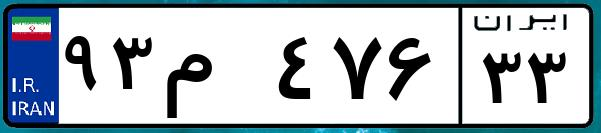3: (475, 38, 525, 113), (525, 38, 570, 115), (110, 28, 158, 98)
4: (270, 28, 330, 110)
6: (385, 28, 445, 110)
7: (330, 28, 385, 110)
9: (57, 26, 110, 100)
م: (158, 20, 270, 120)
